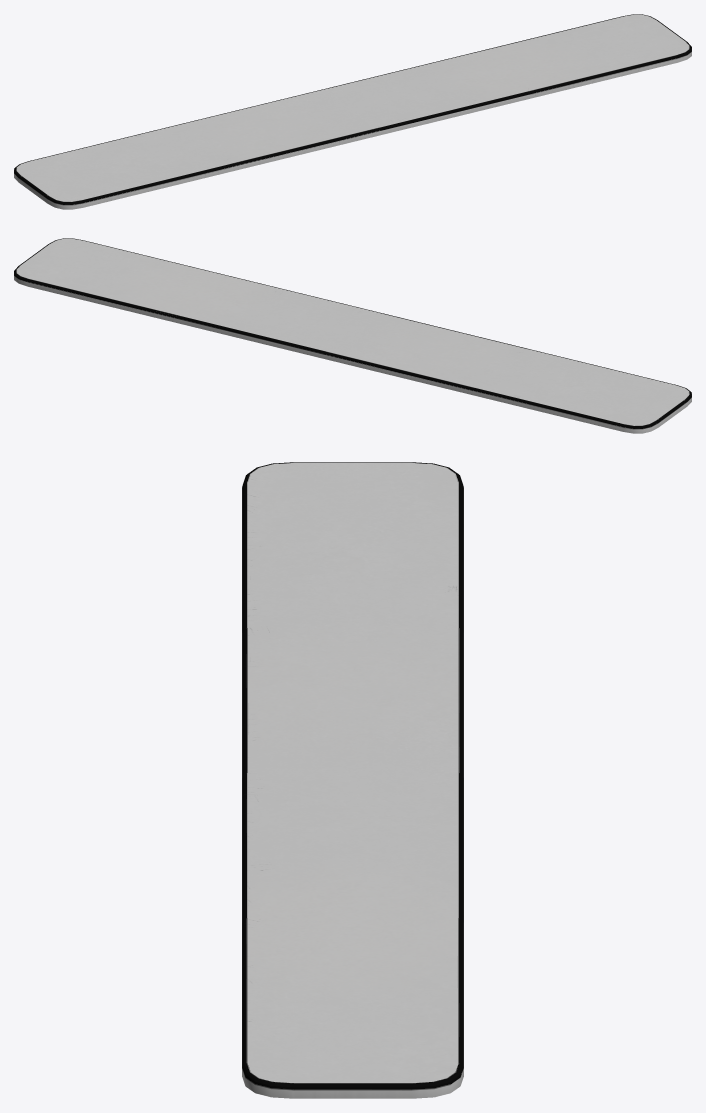
The model's file is Curb.fbx.
The picture shows the model from 3 angles, top to bottom: view 1: azimuth 30°, elevation 25°; view 2: azimuth 150°, elevation 25°; view 3: azimuth 270°, elevation 25°; orthographic projection. The views are drawn at different scales.
Parts seen in each view (by area): view 1: Curb; view 2: Curb; view 3: Curb.
Part boxes in pixels (left/top/right/bottom): Curb: left=14, top=14, right=691, bottom=209; Curb: left=14, top=238, right=691, bottom=433; Curb: left=242, top=462, right=463, bottom=1098.
Bounding box in the file's own units: 10000 × 1500 × 100.
Materials: 1 (1 with a texture image).
